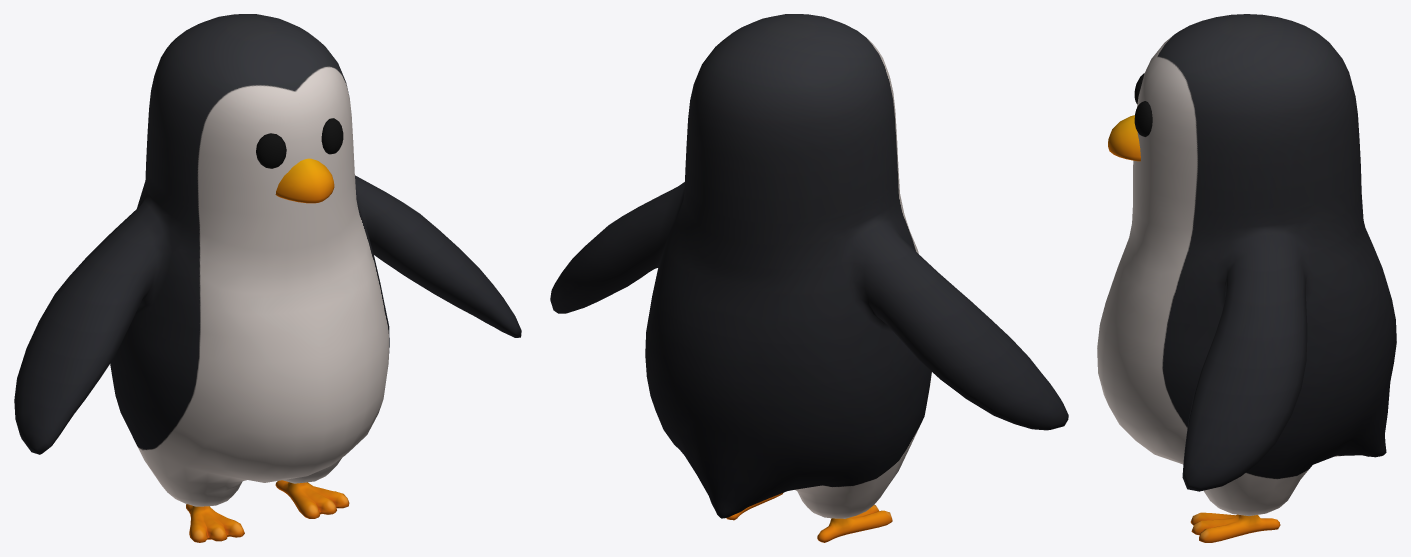
File: penguin.glb
3 views of the same model, side by side, from view 1: azimuth 30°, elevation 25°; view 2: azimuth 150°, elevation 25°; view 3: azimuth 270°, elevation 25° (orthographic). The views are drawn at different scales.
Parts seen in each view (by area): view 1: Penguin; view 2: Penguin; view 3: Penguin.
Part boxes in pixels (bbox=[...]): Penguin: bbox=[14, 14, 521, 542]; Penguin: bbox=[550, 14, 1068, 542]; Penguin: bbox=[1097, 14, 1396, 542].
Size of the model in its own units: 122 by 115 by 65.01.
1 material, 1 textured.
